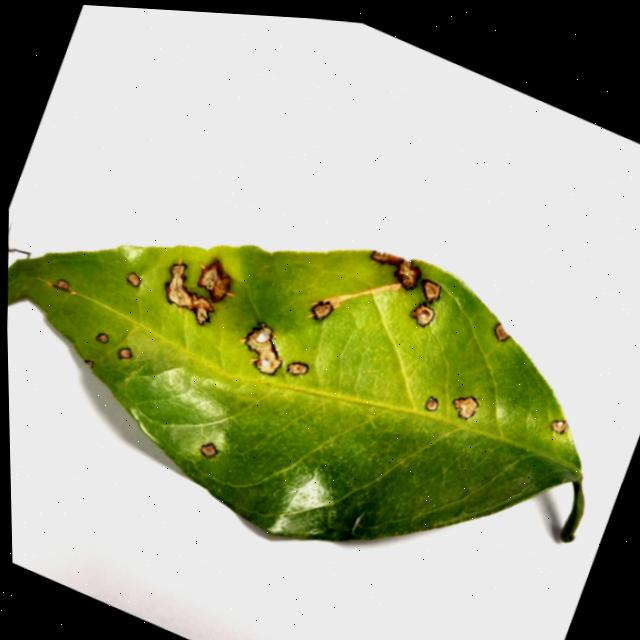antracnose: (7, 245, 584, 541), (166, 263, 213, 324), (245, 323, 281, 374), (198, 260, 230, 302), (396, 259, 420, 289), (453, 396, 478, 419), (412, 303, 434, 326), (371, 251, 403, 265), (422, 279, 441, 302), (312, 301, 333, 319), (494, 322, 510, 341), (287, 362, 308, 375), (200, 442, 217, 457), (551, 420, 567, 433), (127, 272, 141, 286), (426, 396, 438, 411), (118, 348, 131, 359), (96, 332, 108, 343), (57, 279, 69, 290), (84, 359, 94, 367)
